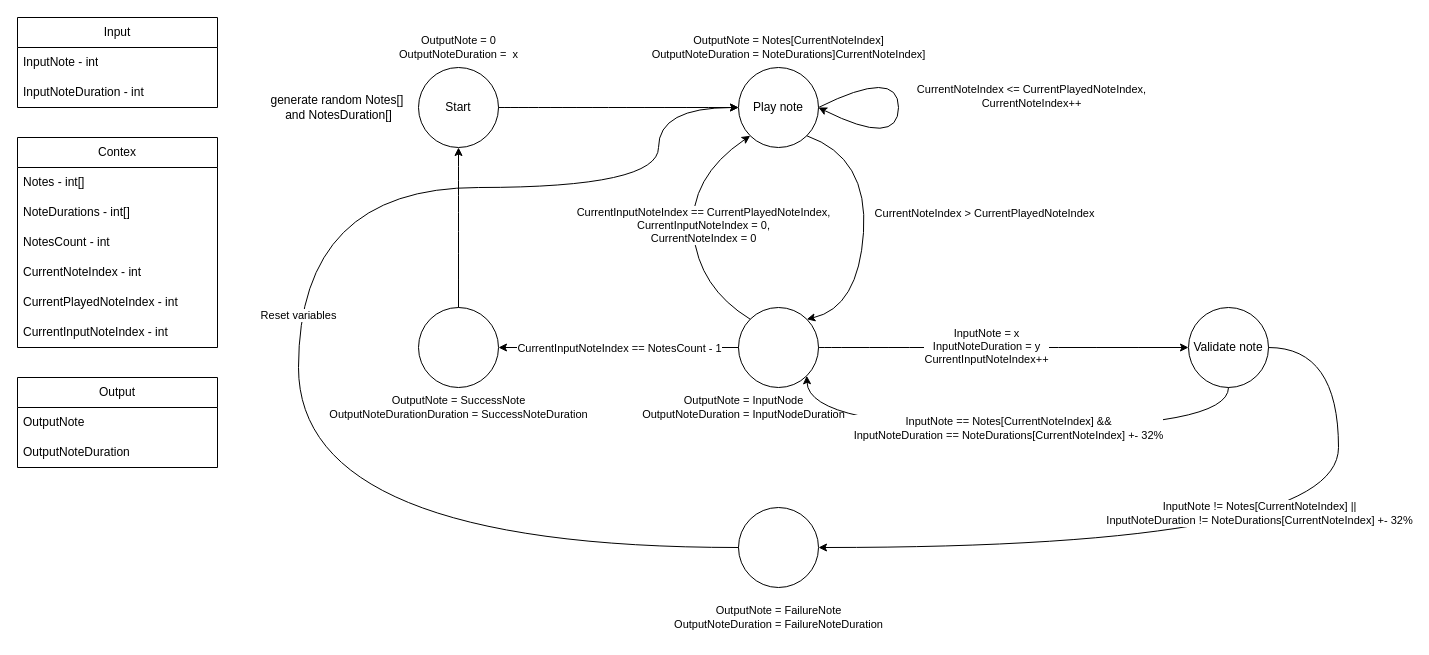
This 1429x655 diagram has some shape labels left out. Here are the shapes that lost their labels. From the top down, the centre of each, then its label:
the point at 458,347: Gameover
the point at 778,347: Input note
the point at 778,547: Invalid note
